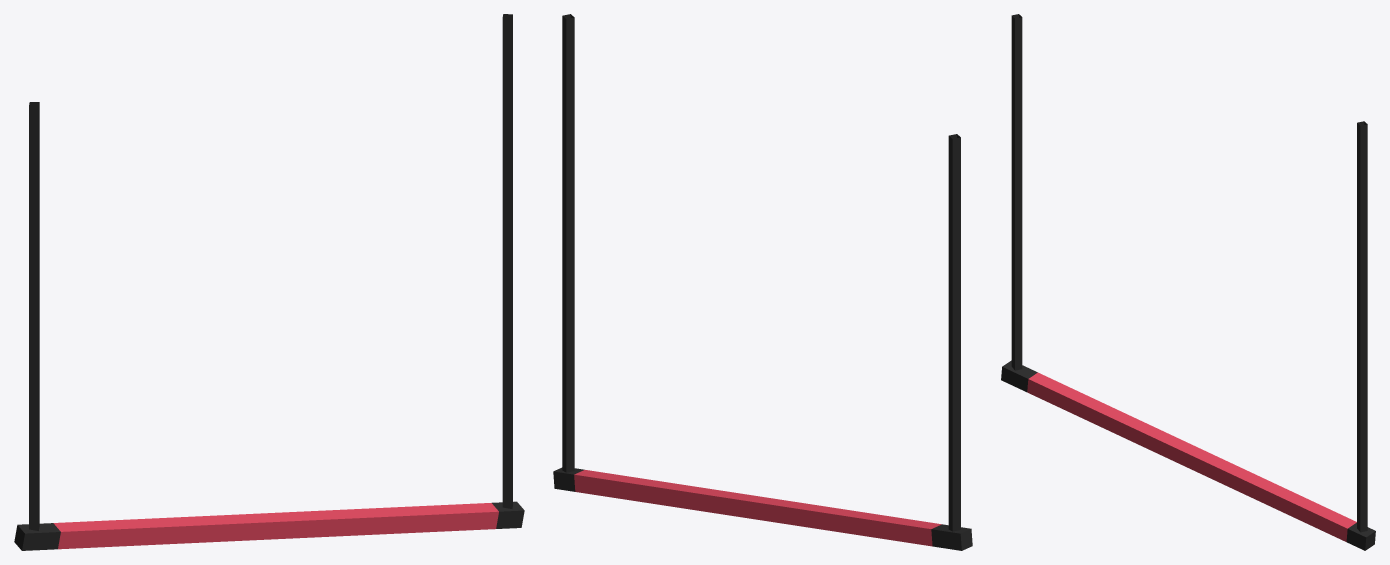
Rendered from Neon_01.fbx.
The picture shows the model from 3 angles, left to right: view 1: azimuth 30°, elevation 25°; view 2: azimuth 150°, elevation 25°; view 3: azimuth 330°, elevation 25°; orthographic projection. The views are drawn at different scales.
Parts seen in each view (by area): view 1: Neon_01; view 2: Neon_01; view 3: Neon_01.
Boxes of the visible parts, box(x1,y1,x2,y2) form: Neon_01: box(14, 14, 524, 550); Neon_01: box(553, 14, 972, 550); Neon_01: box(1001, 14, 1375, 550).
Size of the model in its own units: 33.66 by 233 by 227.
